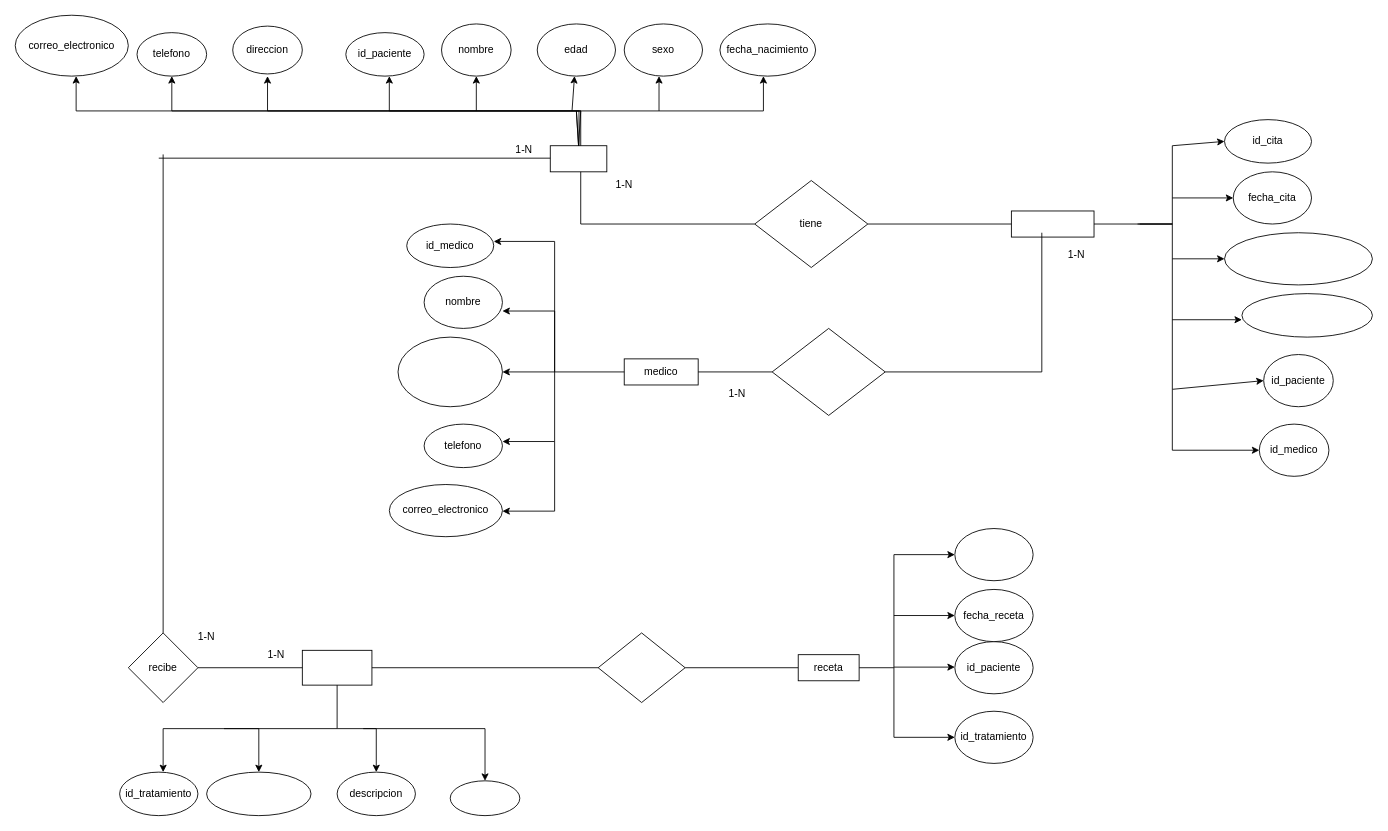
This 1388x831 diagram has some shape labels left out. Here are the shapes that lost their labels. From the top down, the centre of each, then its label:
At pixel 578 158: "PACIENTE".
At pixel 1052 223: "cita_medica".
At pixel 1298 258: "hora_cita".
At pixel 1306 315: "estado".
At pixel 449 371: "especialidad".
At pixel 828 371: "atiende".
At pixel 993 554: "id_receta".
At pixel 336 667: "tratamiento".
At pixel 641 667: "se preescribe".
At pixel 258 793: "nombre_tratamiento".
At pixel 484 798: "duracion".
